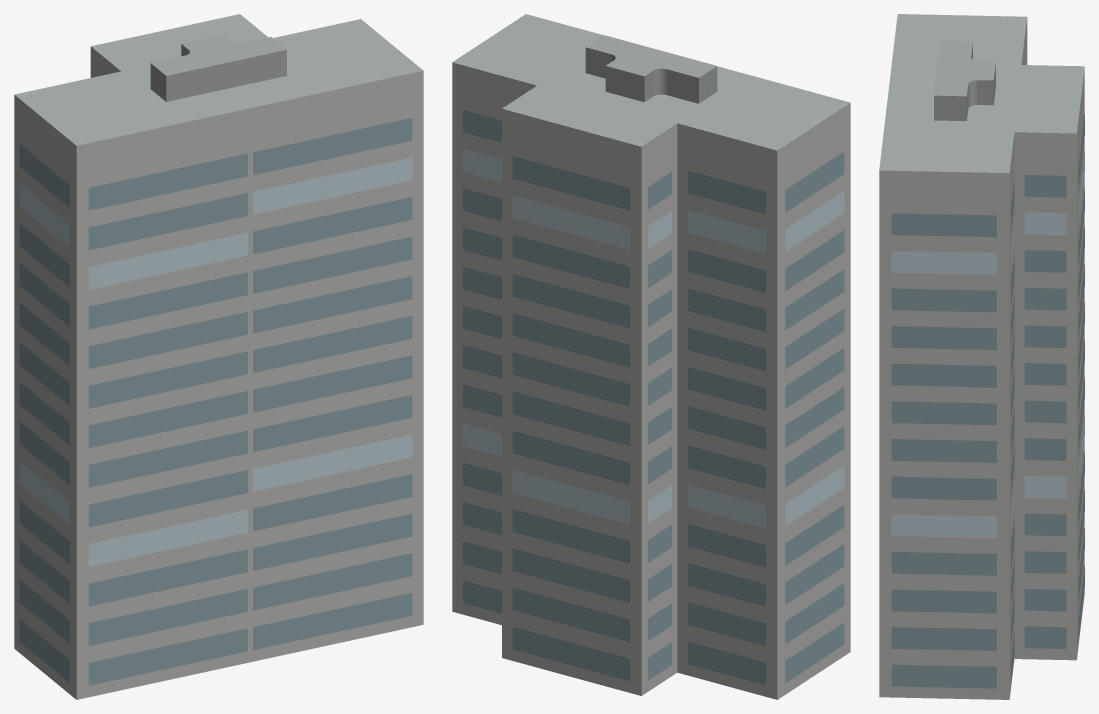
The model's file is fallback-geumho-park-hills-115.glb.
The picture shows the model from 3 angles, left to right: view 1: azimuth 30°, elevation 25°; view 2: azimuth 150°, elevation 25°; view 3: azimuth 270°, elevation 25°; orthographic projection. The views are drawn at different scales.
Visible parts, largest first — view 1: fallback-geumho-park-hills-115; view 2: fallback-geumho-park-hills-115; view 3: fallback-geumho-park-hills-115.
Part boxes in pixels (x1,y1,x2,y2): fallback-geumho-park-hills-115: (14, 14, 423, 699); fallback-geumho-park-hills-115: (452, 14, 850, 699); fallback-geumho-park-hills-115: (879, 14, 1084, 699).
Bounding box in the file's own units: 24.77 × 40 × 13.52.
